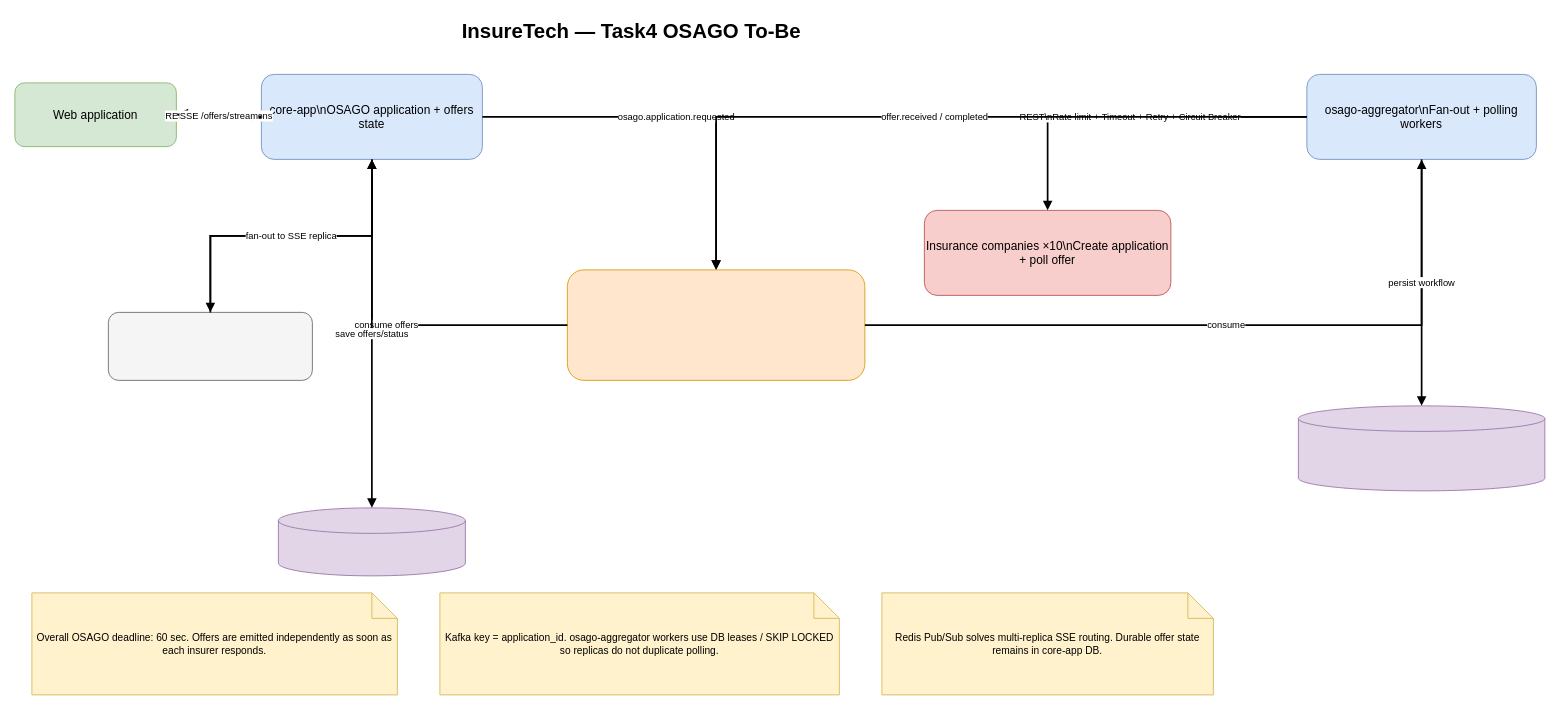
The diagram is 1560 pixels wide and 710 high, and some of its shapes have lost their labels. The centre of each missing label's shape, as x and y in pixels:
"Kafka" belongs at (x=716, y=324).
"PostgreSQL\ncore-app DB" belongs at (x=371, y=541).
"PostgreSQL\nrequest IDs / status / offers / next_poll_at / deadline" belongs at (x=1421, y=448).
"Redis Pub/Sub\nSSE backplane" belongs at (x=210, y=346).
